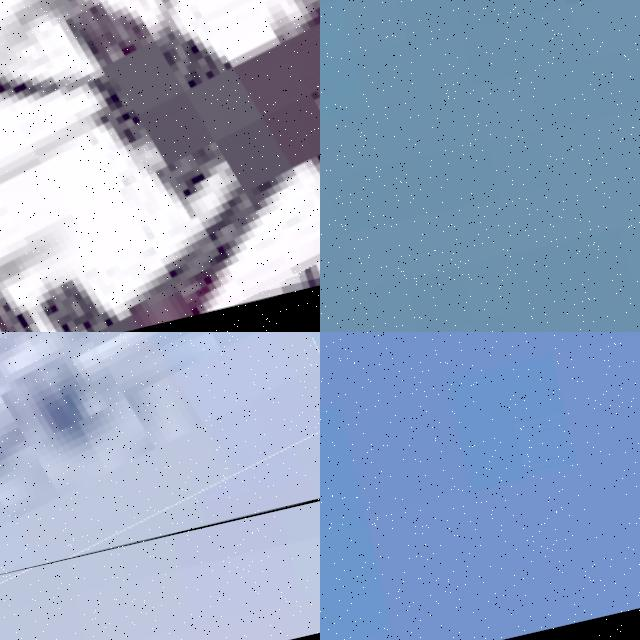drone: (0, 0, 320, 332), (0, 332, 320, 602)
